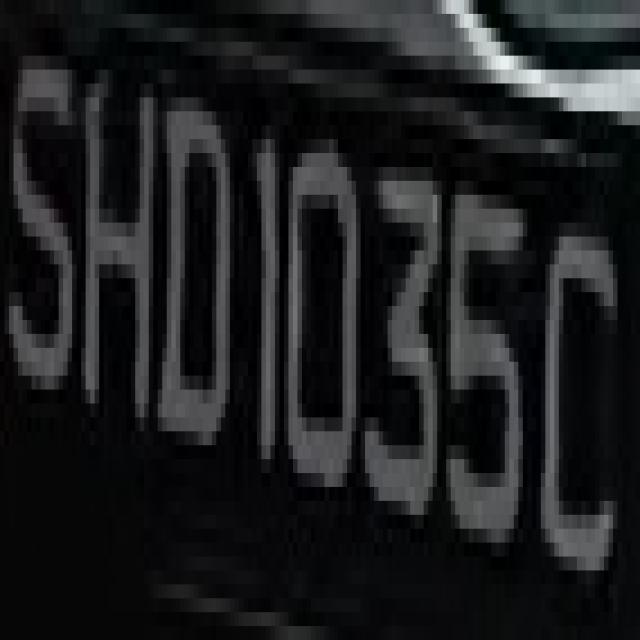0: (280, 70, 370, 514)
1: (239, 111, 288, 543)
3: (352, 139, 442, 571)
5: (428, 111, 532, 612)
C: (4, 4, 4, 15)
D: (162, 70, 244, 598)
H: (72, 42, 162, 487)
S: (9, 28, 90, 459)
